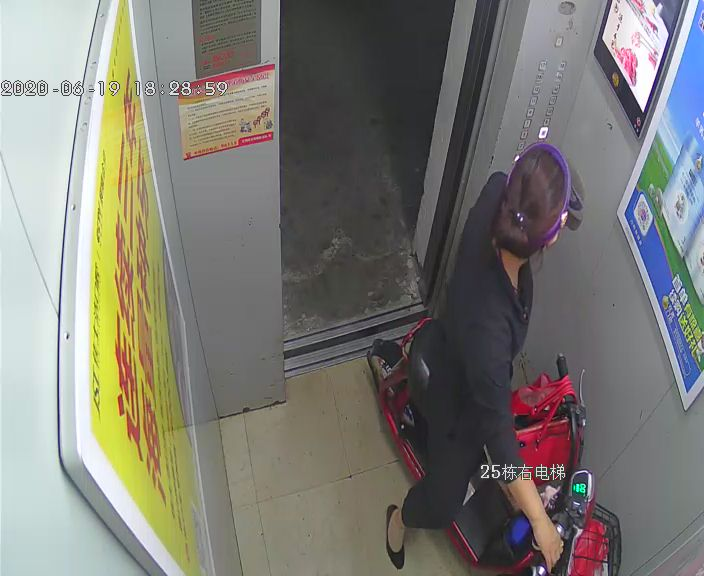Electric-bicycle: (372, 326, 619, 575)
